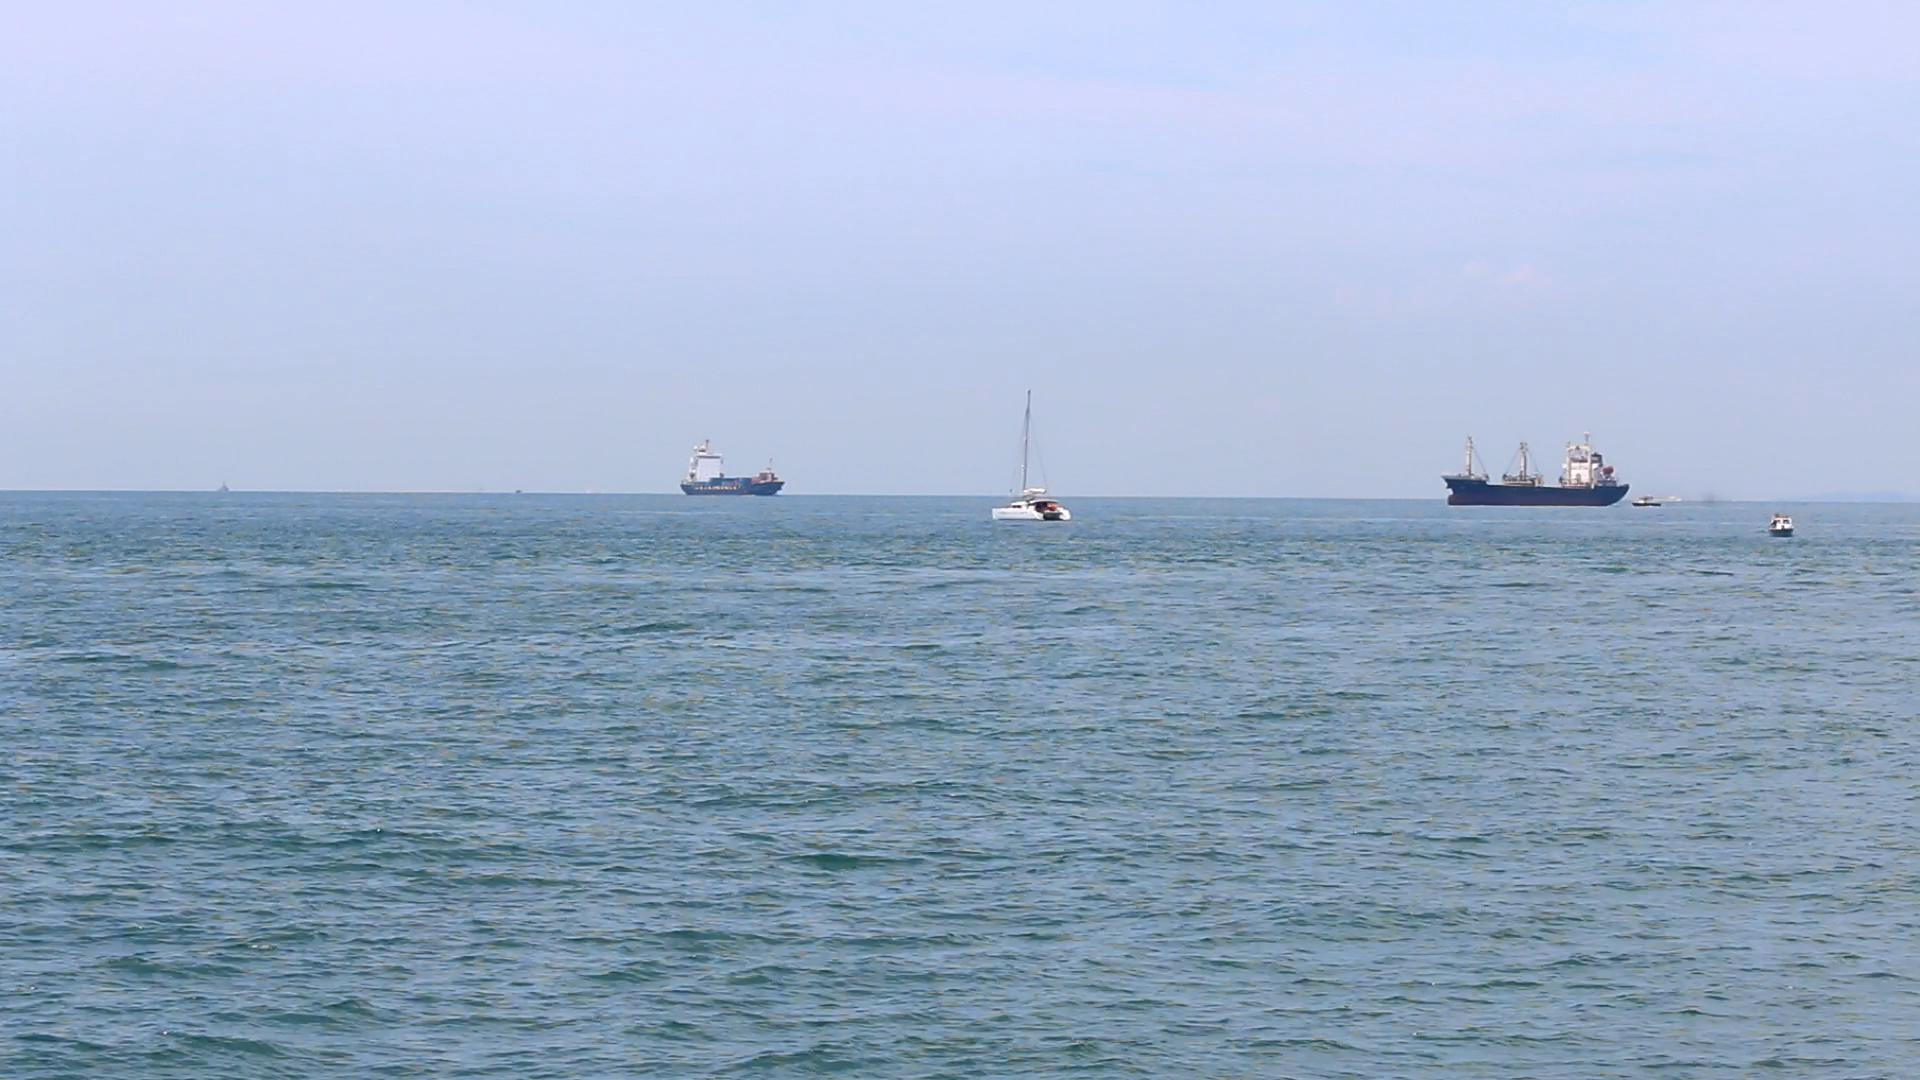Container Ship: (1440, 430, 1631, 509), (678, 435, 787, 497)
